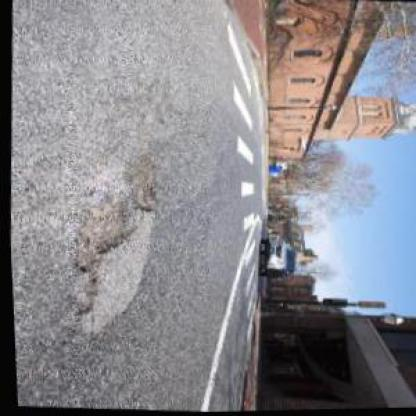pothole: (63, 202, 133, 279), (121, 152, 160, 215)
